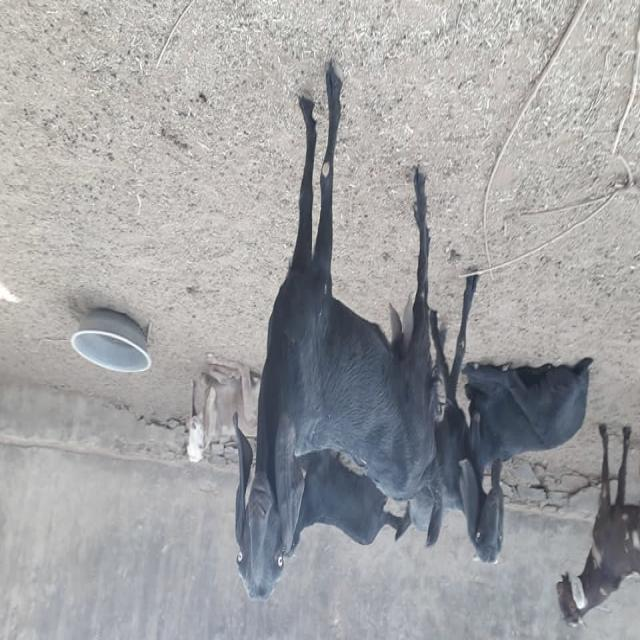Goat: (233, 61, 447, 604), (396, 274, 506, 566), (556, 425, 640, 630), (462, 358, 594, 475), (287, 450, 412, 560), (187, 355, 262, 465)
